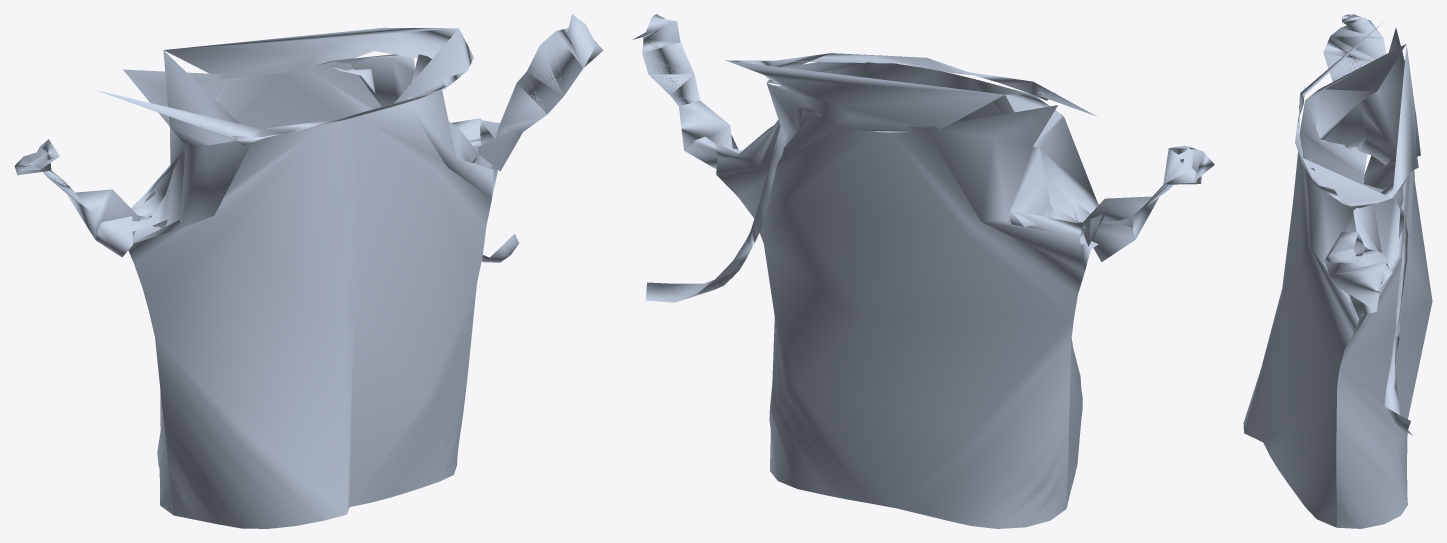
Rendered from frame_041.glb.
3 renders of one model, left to right at view 1: azimuth 30°, elevation 25°; view 2: azimuth 150°, elevation 25°; view 3: azimuth 270°, elevation 25°, orthographic. The views are drawn at different scales.
Parts seen in each view (by area): view 1: panel.front, panel.back, panel.neck_band, panel.sleeve.right, panel.sleeve.left; view 2: panel.back, panel.neck_band, panel.front, panel.sleeve.right, panel.sleeve.left; view 3: panel.front, panel.back, panel.neck_band, panel.sleeve.right, panel.sleeve.left.
Boxes of the visible parts, box(x1,y1,x2,y2) form: panel.front: box(128, 50, 493, 528); panel.back: box(123, 55, 497, 514); panel.neck_band: box(95, 27, 519, 262); panel.sleeve.right: box(477, 14, 603, 171); panel.sleeve.left: box(14, 139, 140, 257); panel.back: box(714, 85, 1085, 528); panel.neck_band: box(645, 53, 1097, 302); panel.front: box(767, 62, 1098, 507); panel.sleeve.right: box(632, 14, 738, 169); panel.sleeve.left: box(1082, 145, 1214, 262); panel.front: box(1243, 44, 1405, 527); panel.back: box(1336, 27, 1432, 528); panel.neck_band: box(1295, 22, 1418, 435); panel.sleeve.right: box(1324, 231, 1388, 318); panel.sleeve.left: box(1323, 14, 1385, 81).
Bounding box in the file's own units: 1.04 × 0.774 × 0.3494.
